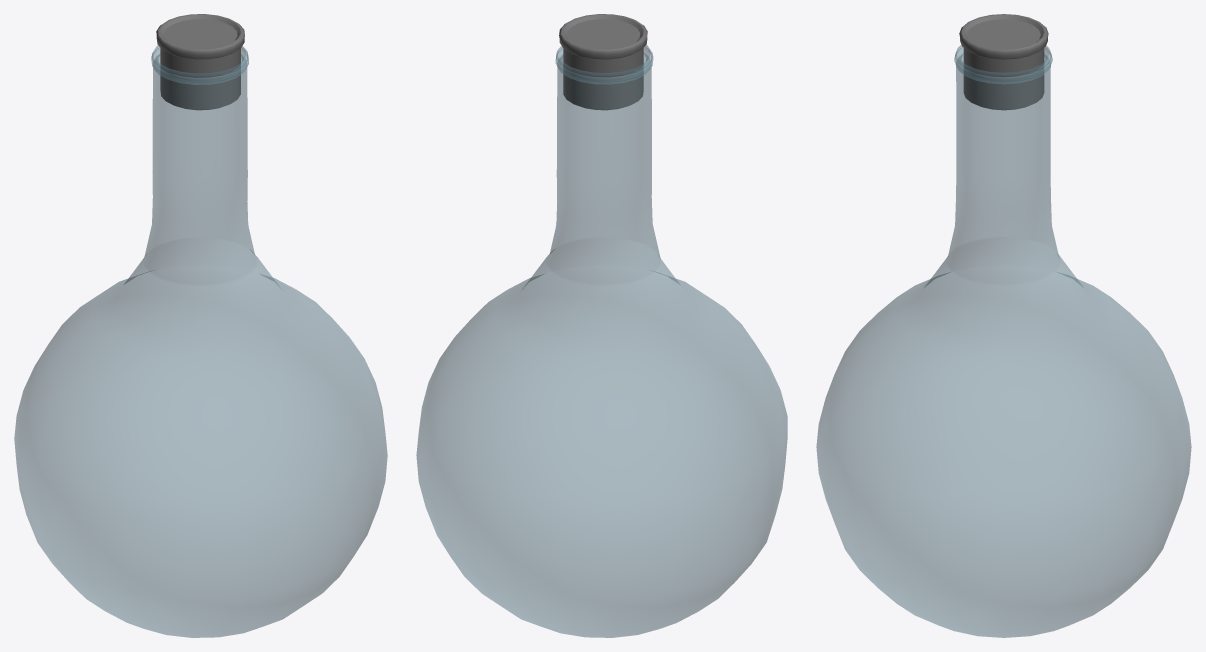
File: Kolf lang model.fbx
3 renders of one model, left to right at view 1: azimuth 30°, elevation 25°; view 2: azimuth 150°, elevation 25°; view 3: azimuth 270°, elevation 25°, orthographic.
Parts seen in each view (by area): view 1: kolf_klein_2, plastic_dop_2; view 2: kolf_klein_2, plastic_dop_2; view 3: kolf_klein_2, plastic_dop_2.
Part boxes in pixels (x1,y1,x2,y2): kolf_klein_2: (14, 45, 387, 637); plastic_dop_2: (156, 14, 244, 110); kolf_klein_2: (416, 45, 787, 637); plastic_dop_2: (559, 14, 647, 110); kolf_klein_2: (816, 45, 1191, 637); plastic_dop_2: (959, 14, 1048, 110).
Size of the model in its own units: 19.06 by 32.97 by 19.06.
